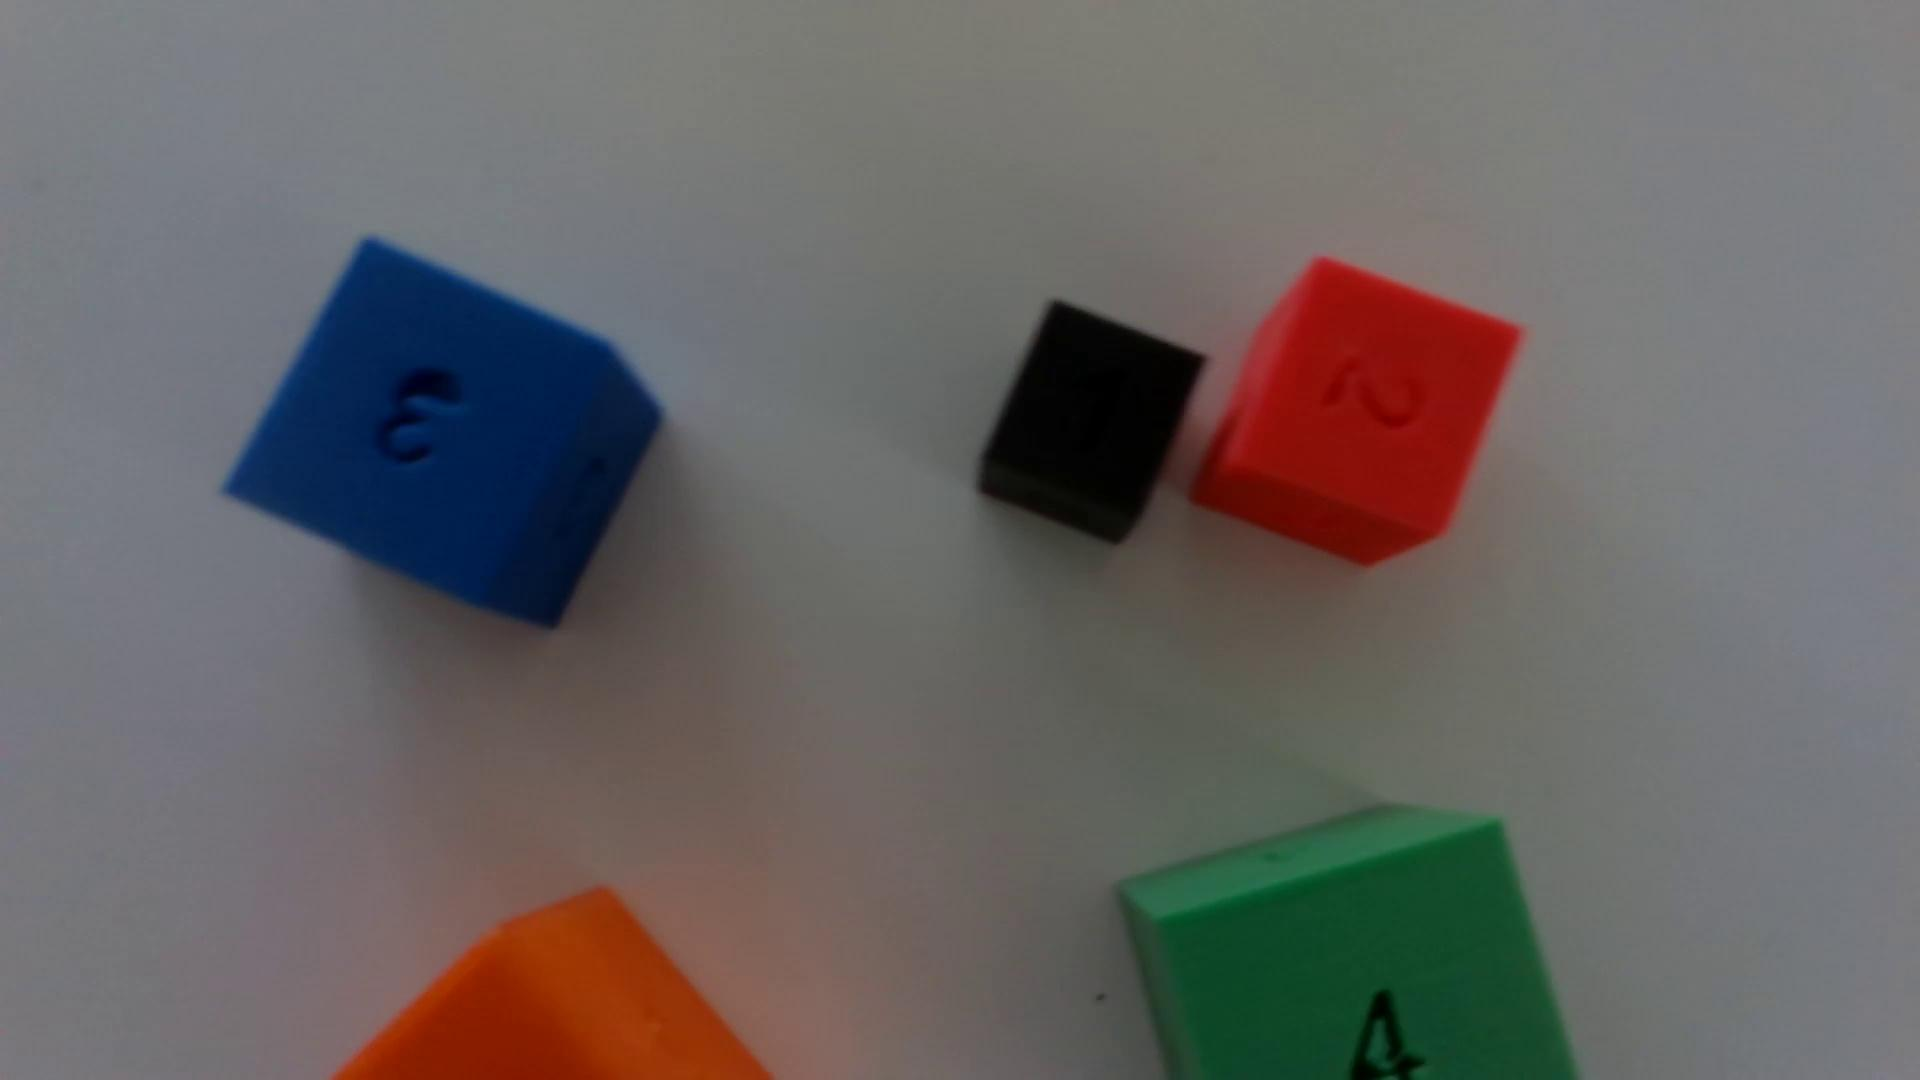black: (978, 302, 1205, 545)
blue: (225, 240, 659, 626)
green: (1120, 807, 1578, 1080)
orange: (334, 889, 770, 1080)
red: (1193, 258, 1520, 567)
